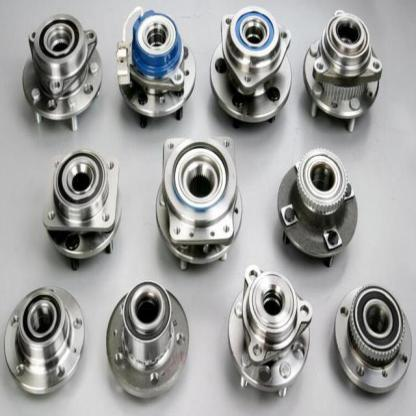FOD: (120, 278, 174, 359), (19, 289, 66, 359)
